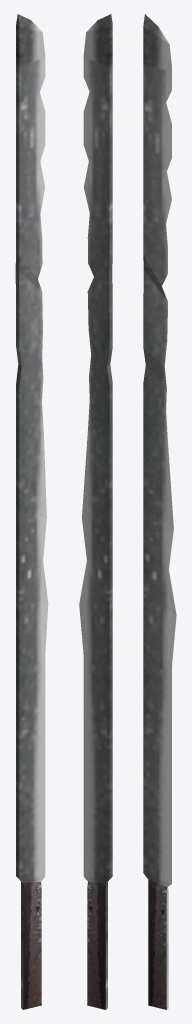
Rendered from BrokenBlade.fbx.
The picture shows the model from 3 angles, left to right: view 1: azimuth 30°, elevation 25°; view 2: azimuth 150°, elevation 25°; view 3: azimuth 330°, elevation 25°; orthographic projection.
Visible parts, largest first — view 1: Blade; view 2: Blade; view 3: Blade.
Boxes of the visible parts, box(x1,y1,x2,y2) form: Blade: box(15, 14, 48, 1009); Blade: box(79, 14, 112, 1009); Blade: box(143, 14, 176, 1009).
Bounding box in the file's own units: 2.74 × 83.82 × 0.688.
Materials: 1 (1 with a texture image).
